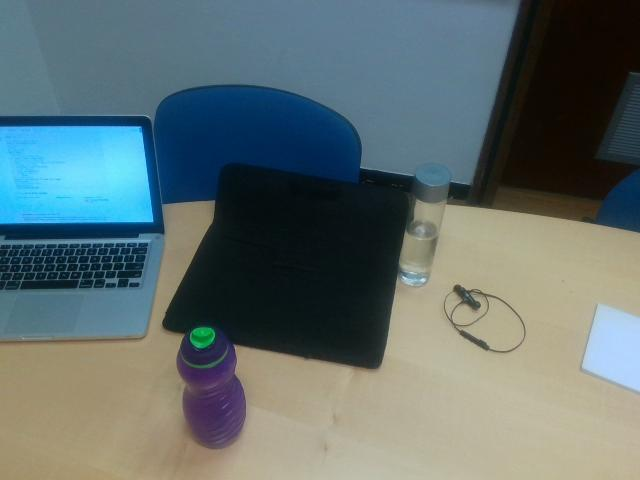bottle: (173, 323, 247, 448)
